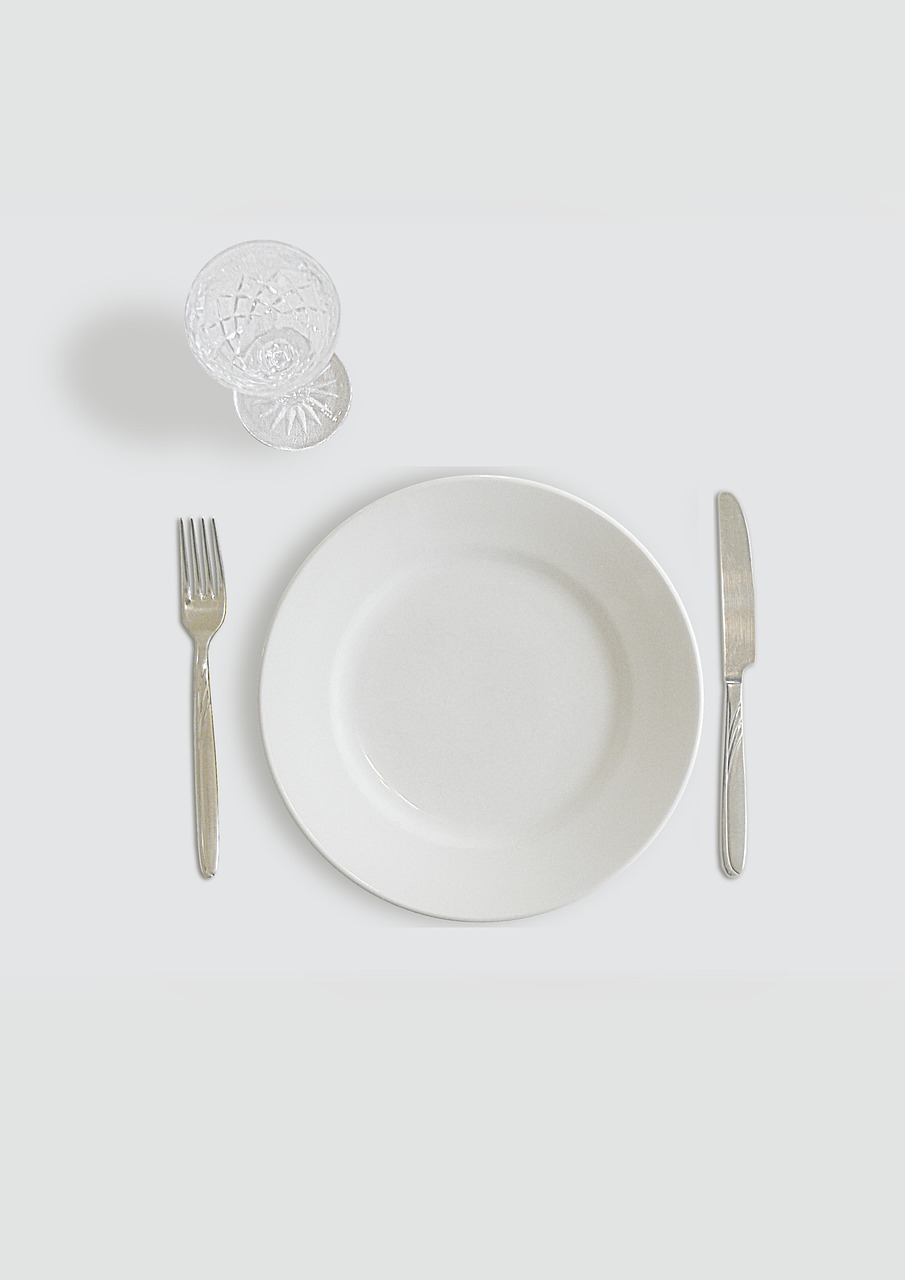knife: (701, 489, 764, 881)
